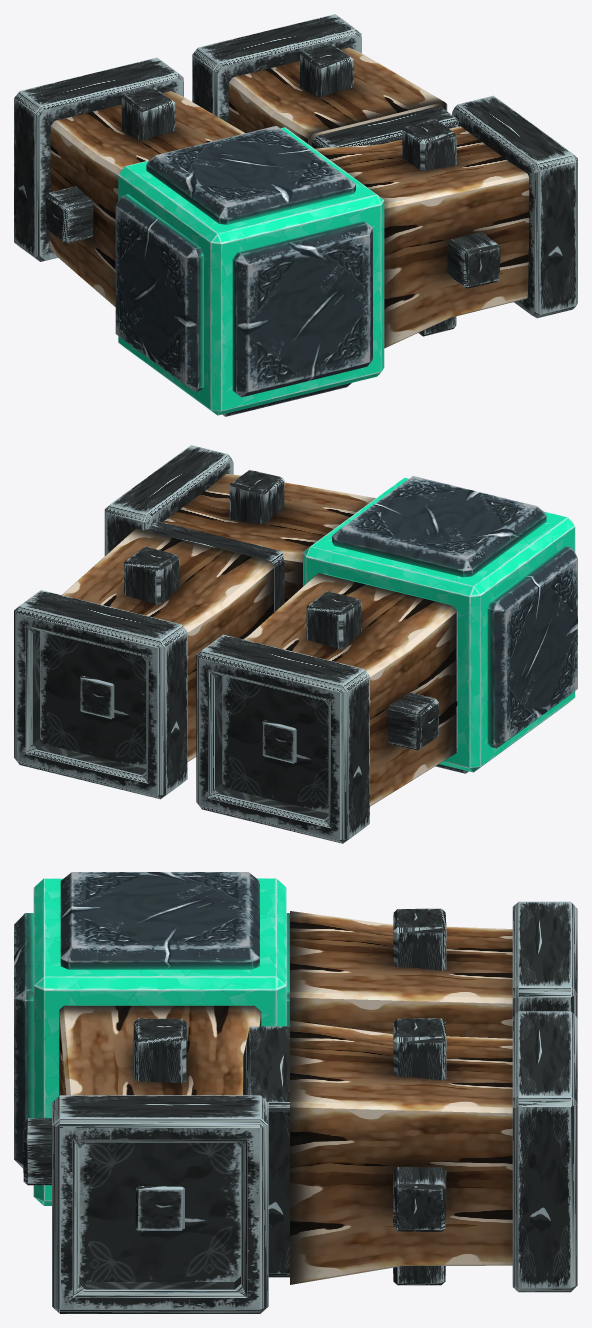
The model's file is step_004.glb.
3 views of the same model, one above another, from view 1: azimuth 30°, elevation 25°; view 2: azimuth 150°, elevation 25°; view 3: azimuth 270°, elevation 25° (orthographic). The views are drawn at different scales.
Visible parts, largest first — view 1: SingleWoodenBlock_b17ab23d-d548-4822-94ff-2b90ef57f299, StartingBlock_415c59ad-0f09-411c-bf36-93d5d19f7b9a; view 2: SingleWoodenBlock_b17ab23d-d548-4822-94ff-2b90ef57f299, StartingBlock_415c59ad-0f09-411c-bf36-93d5d19f7b9a; view 3: SingleWoodenBlock_b17ab23d-d548-4822-94ff-2b90ef57f299, StartingBlock_415c59ad-0f09-411c-bf36-93d5d19f7b9a.
Part boxes in pixels (left/top/right/bottom): SingleWoodenBlock_b17ab23d-d548-4822-94ff-2b90ef57f299: left=14, top=14, right=577, bottom=348; StartingBlock_415c59ad-0f09-411c-bf36-93d5d19f7b9a: left=115, top=125, right=384, bottom=416; SingleWoodenBlock_b17ab23d-d548-4822-94ff-2b90ef57f299: left=14, top=445, right=457, bottom=843; StartingBlock_415c59ad-0f09-411c-bf36-93d5d19f7b9a: left=303, top=476, right=577, bottom=773; SingleWoodenBlock_b17ab23d-d548-4822-94ff-2b90ef57f299: left=23, top=901, right=577, bottom=1313; StartingBlock_415c59ad-0f09-411c-bf36-93d5d19f7b9a: left=14, top=872, right=289, bottom=1205.
Bounding box in the file's own units: 2.18 × 1.13 × 2.17.
2 materials, 2 textured.
